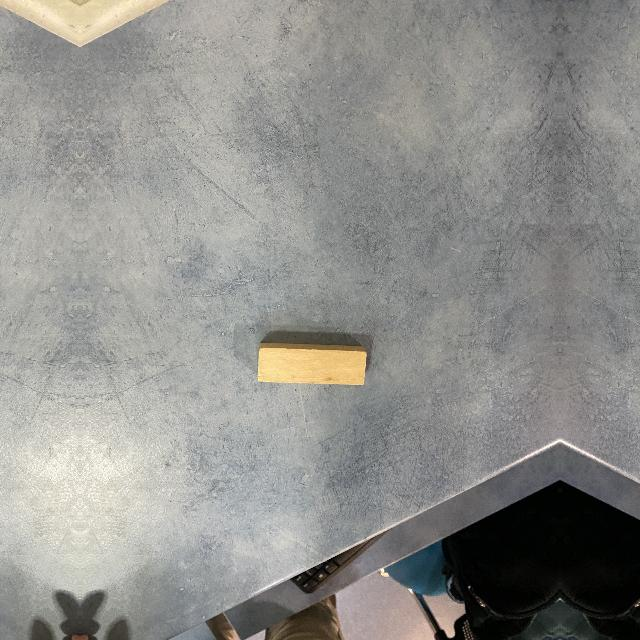jenga: (258, 343, 368, 383)
